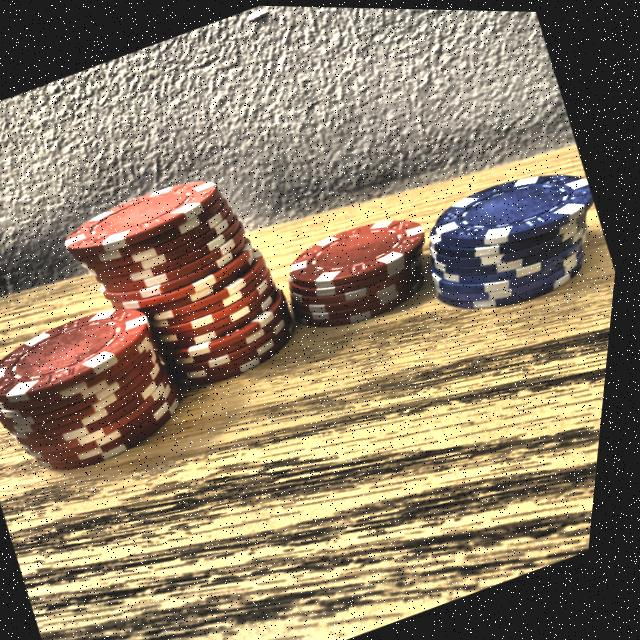Chip: (27, 126, 344, 442), (0, 257, 223, 505), (406, 144, 615, 331), (268, 198, 453, 348)
